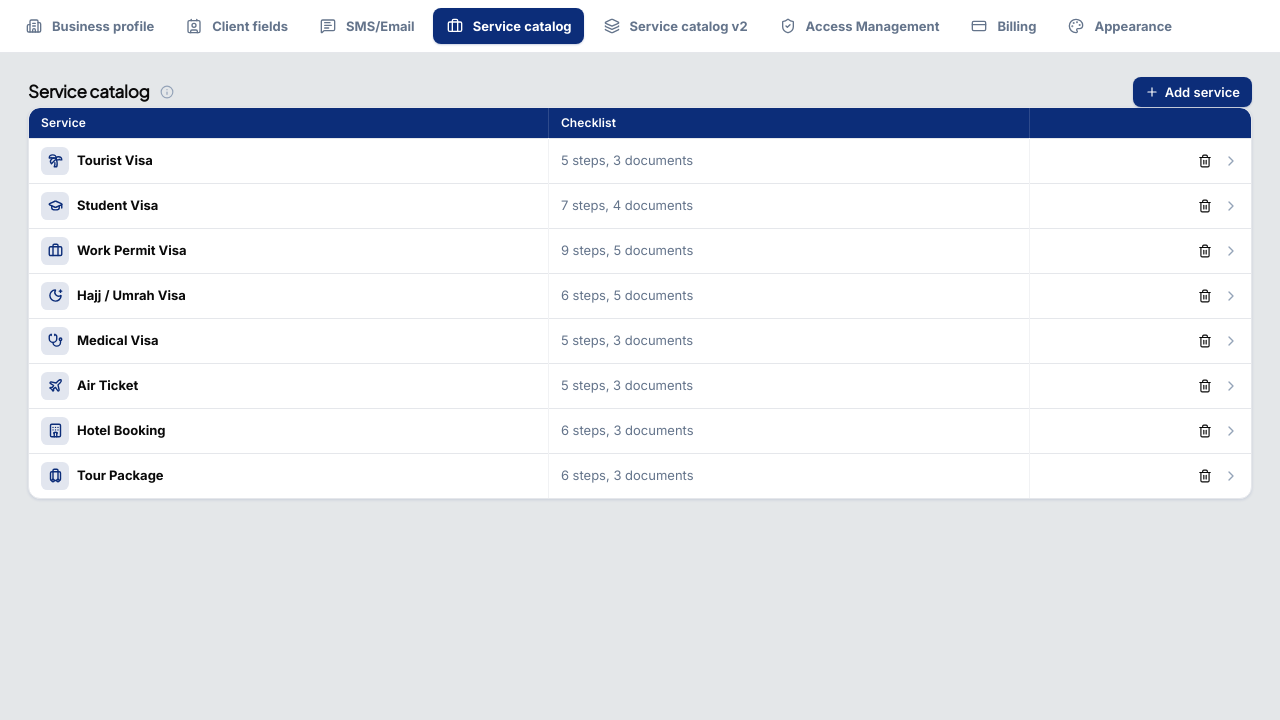
Test: settings service catalog › opens a catalog row in a full-panel editor
Step 1. Click the link "Tourist Visa" → coordinates (97, 161), box [41,147,153,175]
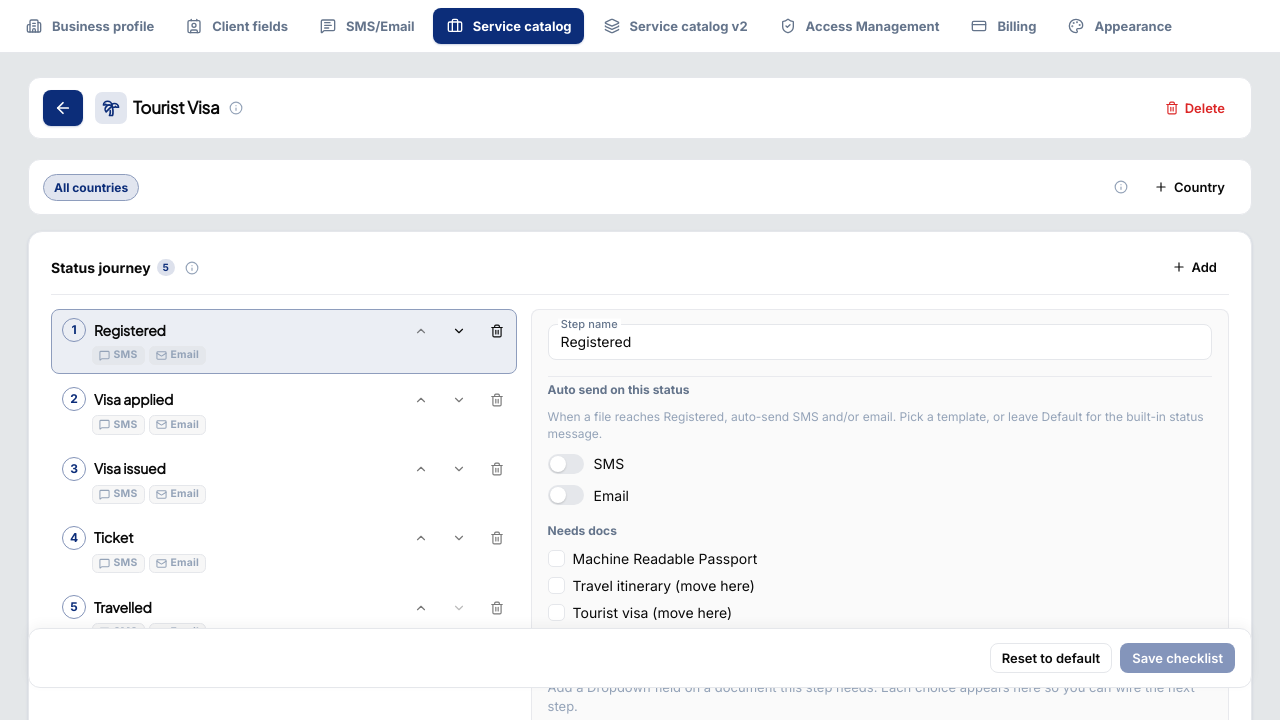
Expected: the heading "Tourist Visa" is shown, [133,95,220,121]
Expected: the button named "Back to Catalog" is shown, [43,90,83,126]
Expected: the button "Save checklist" is shown, [1120,643,1235,673]
Step 2. Click the button named "Change icon for Tourist Visa" → coordinates (111, 108), box [95,92,127,124]
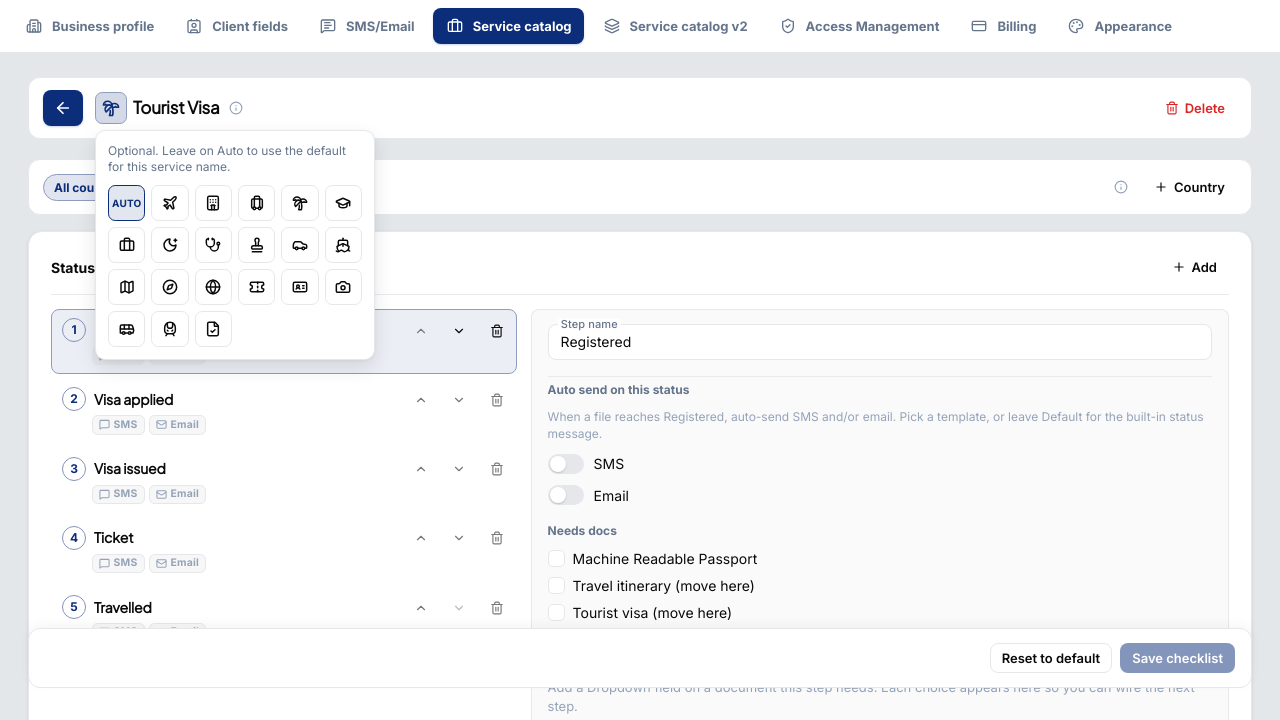
Expected: the list named "Service icons" is shown, [108,185,362,347]
